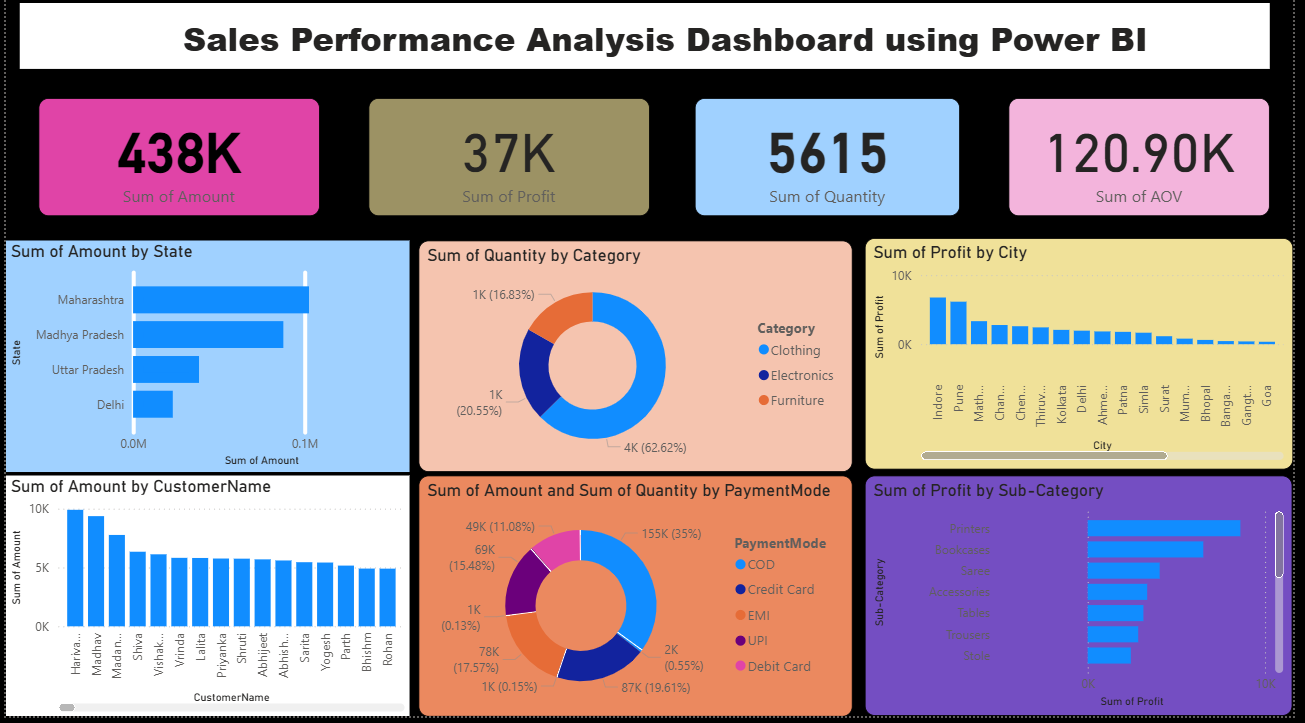

This screenshot's page, from the dashboard's own definition file:
{"tool":"powerbi","page":{"name":"Page 1","canvas":[1280,720],"ordinal":0},"visuals":[{"type":"columnChart","fields":{"Y":["Details-1.Profit"],"Category":["Orders.City"]},"box":[854,244,426,230],"z":0},{"type":"barChart","fields":{"Category":["Details-1.Sub-Category"],"Y":["Details-1.Profit"]},"box":[854.1,480.4,425.6,239.5],"z":1000},{"type":"donutChart","fields":{"Y":["Details-1.Quantity"],"Category":["Details-1.Category"]},"box":[410.5,246.3,431.7,230.1],"z":2000},{"type":"donutChart","fields":{"Y":["Details-1.Amount","Details-1.Quantity"],"Category":["Details-1.PaymentMode","Orders.State"]},"box":[410.5,480.2,431.7,240.1],"z":3000},{"type":"card","fields":{"Values":["Details-1.Amount"]},"box":[31.9,104.3,279.8,117.8],"z":4000},{"type":"card","fields":{"Values":["Details-1.Profit"]},"box":[360.7,104.3,279.8,117.8],"z":5000},{"type":"card","fields":{"Values":["Details-1.Quantity"]},"box":[685.9,104.3,263.8,117.8],"z":6000},{"type":"card","fields":{"Values":["Details-1.AOV"]},"box":[997.6,104.3,260.1,117.8],"z":7000},{"type":"barChart","fields":{"Y":["Details-1.Amount"],"Category":["Orders.State"]},"box":[0,246.3,401.8,230.1],"z":8000},{"type":"columnChart","fields":{"Category":["Orders.CustomerName"],"Y":["Details-1.Amount"]},"box":[0,480.2,401.8,240.1],"z":9000},{"type":"textbox","box":[13.7,10,1244,65.9],"z":10000}]}

Visuals, with their boxes in screenshot pixels (x1, y1, x2, y2), scaled from the page's 1280x720 canvas onto the 1305x723 screenshot:
columnChart - Details-1.Profit x Orders.City: bbox(871, 245, 1304, 476)
barChart - Details-1.Sub-Category x Details-1.Profit: bbox(871, 482, 1304, 722)
donutChart - Details-1.Quantity x Details-1.Category: bbox(419, 247, 859, 478)
donutChart - Details-1.Amount x Details-1.Quantity: bbox(419, 482, 859, 722)
card - Details-1.Amount: bbox(33, 105, 318, 223)
card - Details-1.Profit: bbox(368, 105, 653, 223)
card - Details-1.Quantity: bbox(699, 105, 968, 223)
card - Details-1.AOV: bbox(1017, 105, 1282, 223)
barChart - Details-1.Amount x Orders.State: bbox(0, 247, 410, 478)
columnChart - Orders.CustomerName x Details-1.Amount: bbox(0, 482, 410, 722)
textbox: bbox(14, 10, 1282, 76)
